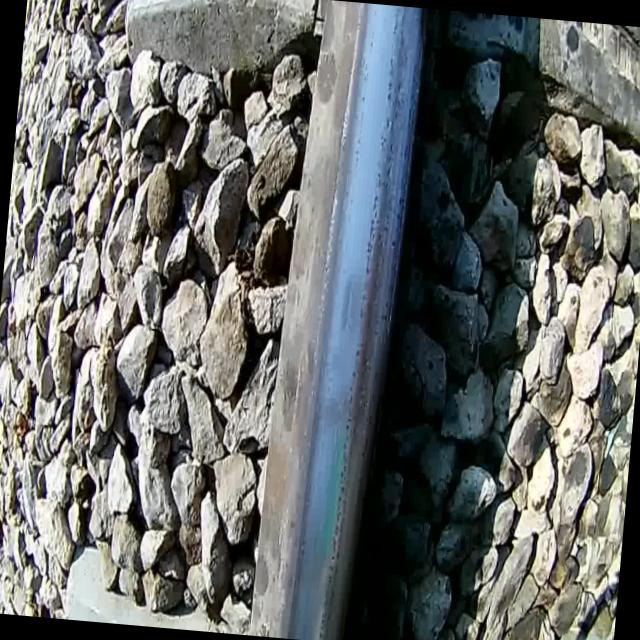Shellings: (328, 280, 384, 550), (384, 8, 426, 354), (362, 5, 410, 278), (314, 545, 343, 640)
Squats: (271, 360, 304, 424), (311, 47, 341, 107), (246, 597, 279, 637), (248, 548, 274, 598), (317, 0, 340, 49)
